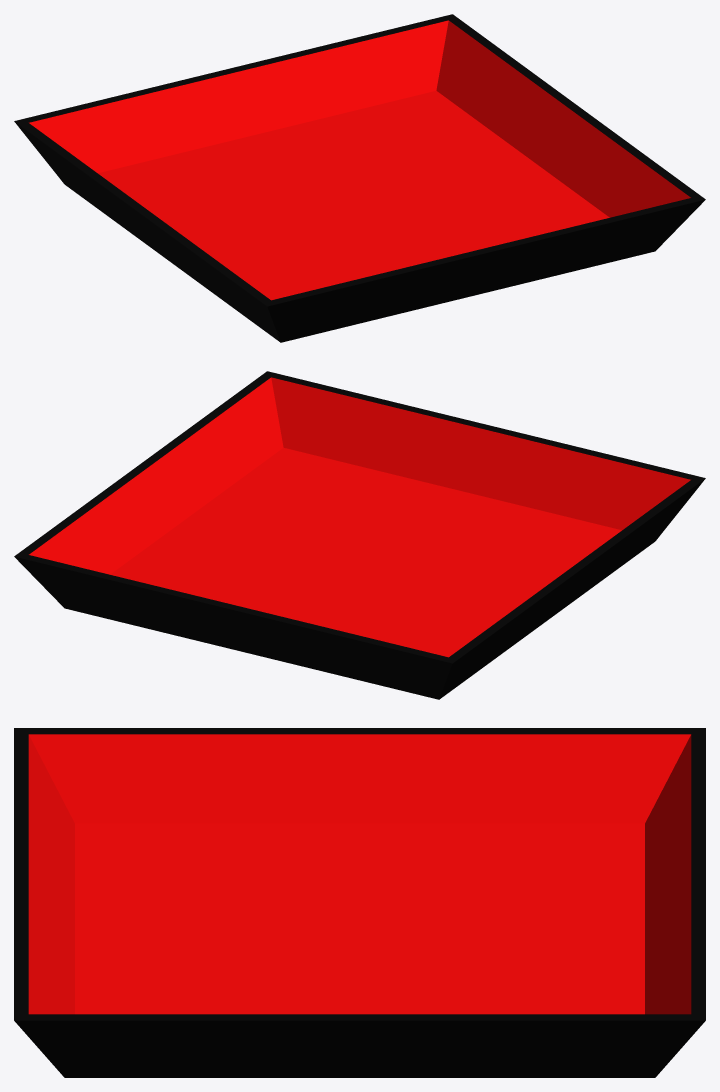
Rendered from Dice_Tray_1_V2.fbx.
3 views of the same model, one above another, from view 1: azimuth 30°, elevation 25°; view 2: azimuth 150°, elevation 25°; view 3: azimuth 270°, elevation 25° (orthographic). The views are drawn at different scales.
Parts seen in each view (by area): view 1: Dice_Tray; view 2: Dice_Tray; view 3: Dice_Tray.
Boxes of the visible parts, x1,y1,x2,y2 form: Dice_Tray: (14, 14, 705, 342); Dice_Tray: (14, 371, 705, 699); Dice_Tray: (14, 728, 705, 1077).
Size of the model in its own units: 234 by 29.41 by 234.
